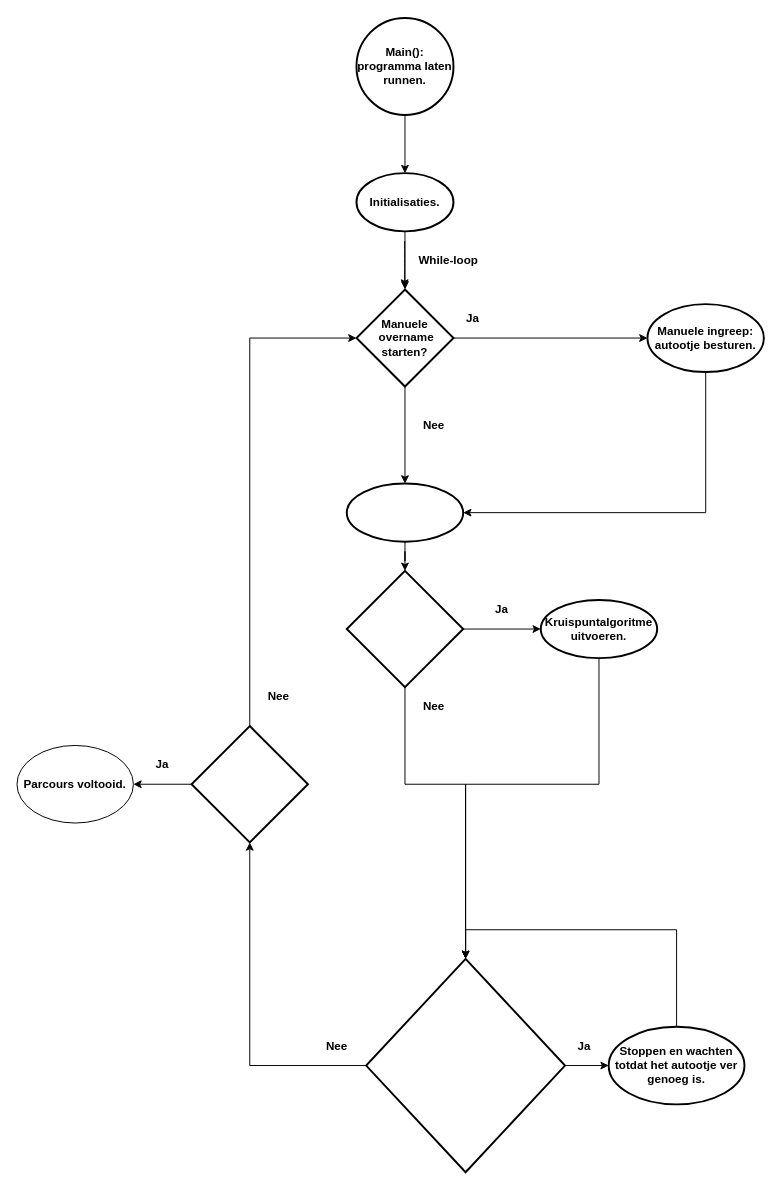
This 782x1189 diagram has some shape labels left out. The shapes that lost their labels are listed below. From the top down, each one's centre as x and y in pixels, then its label:
(404,512): Lijn volgen gedurende 1 seconde.
(404,628): Staan we aan een stopstreep?
(249,784): Staan we op onze eindpositie?
(465,1065): Afstandssensor controleren: staan we dicht achter een ander wagentje?
